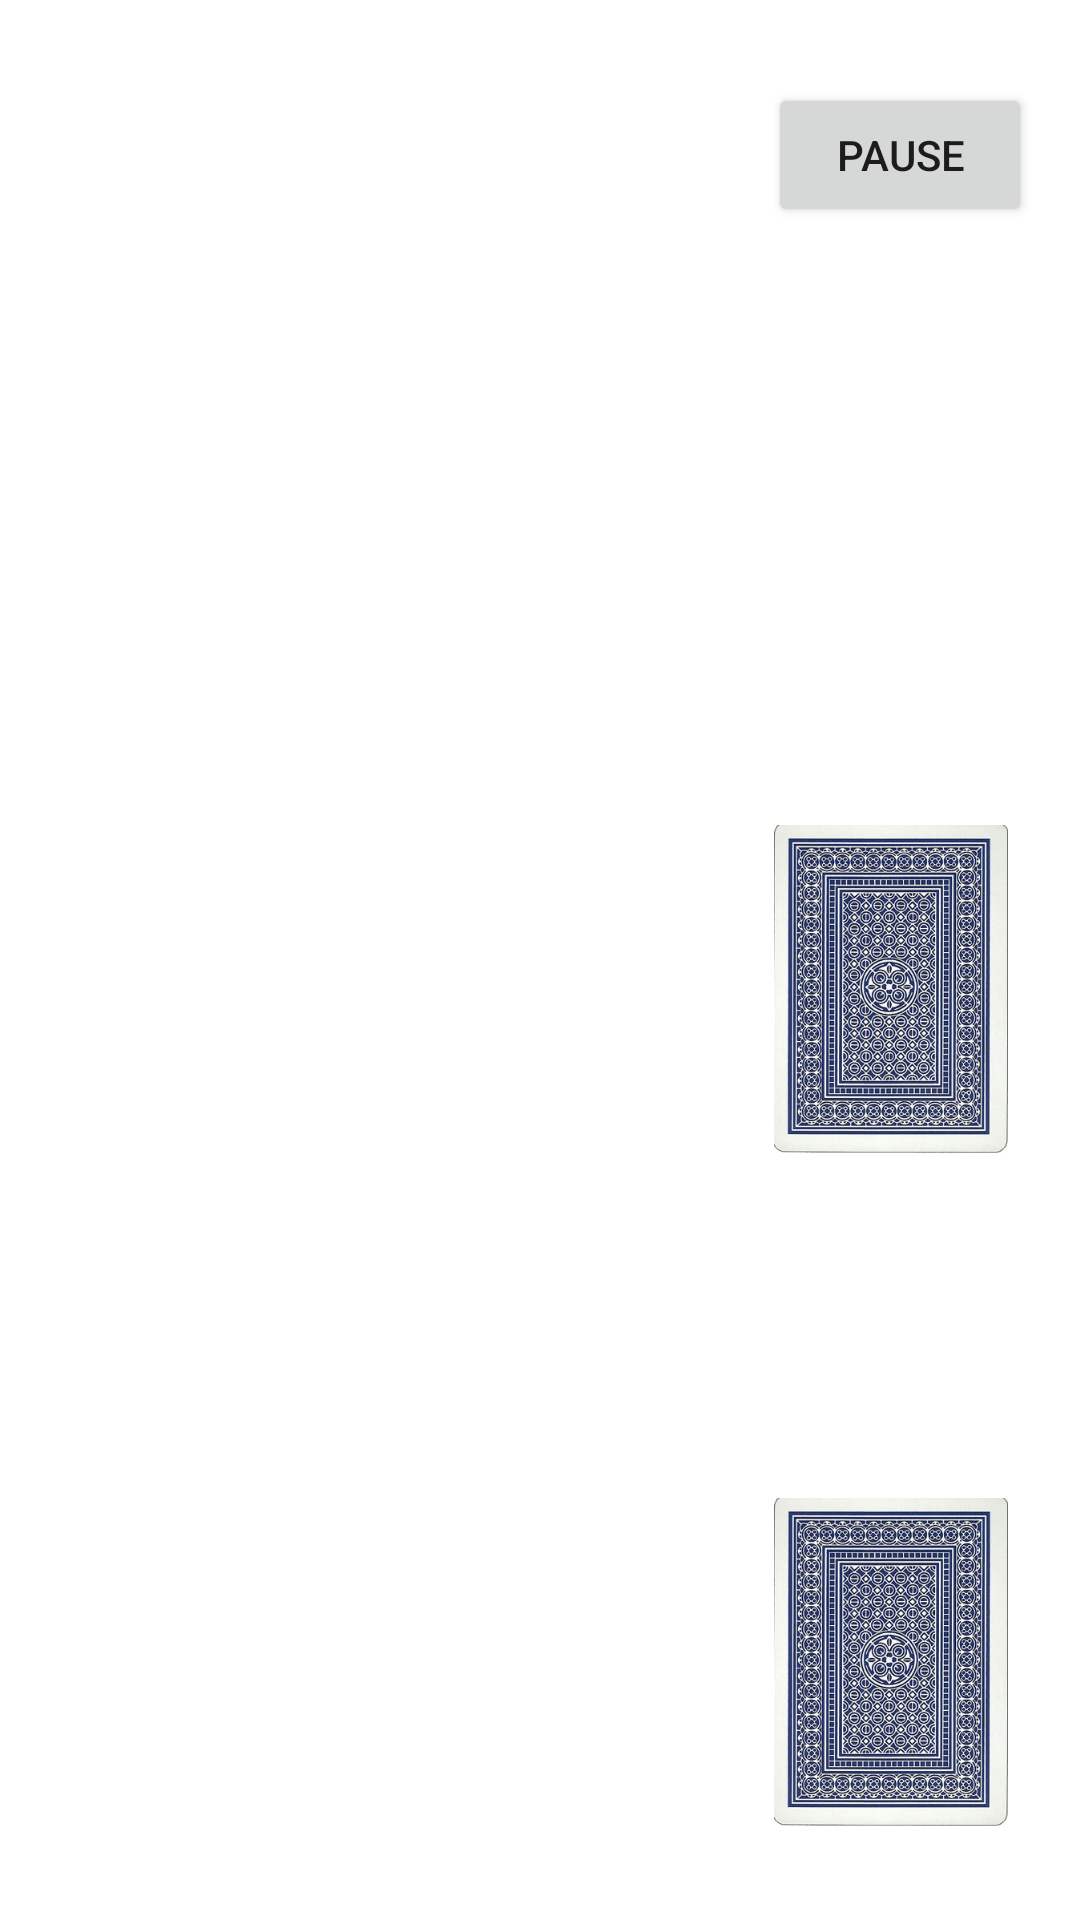

Where to tap for icons on this 1080*1920 app screen, as point (x, y):
card back: point (891, 989), point (891, 1662)
